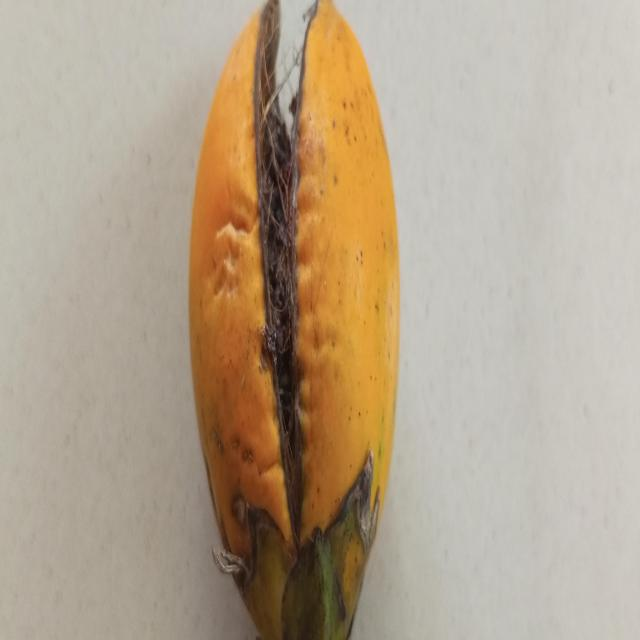damaged: (189, 0, 399, 640)
